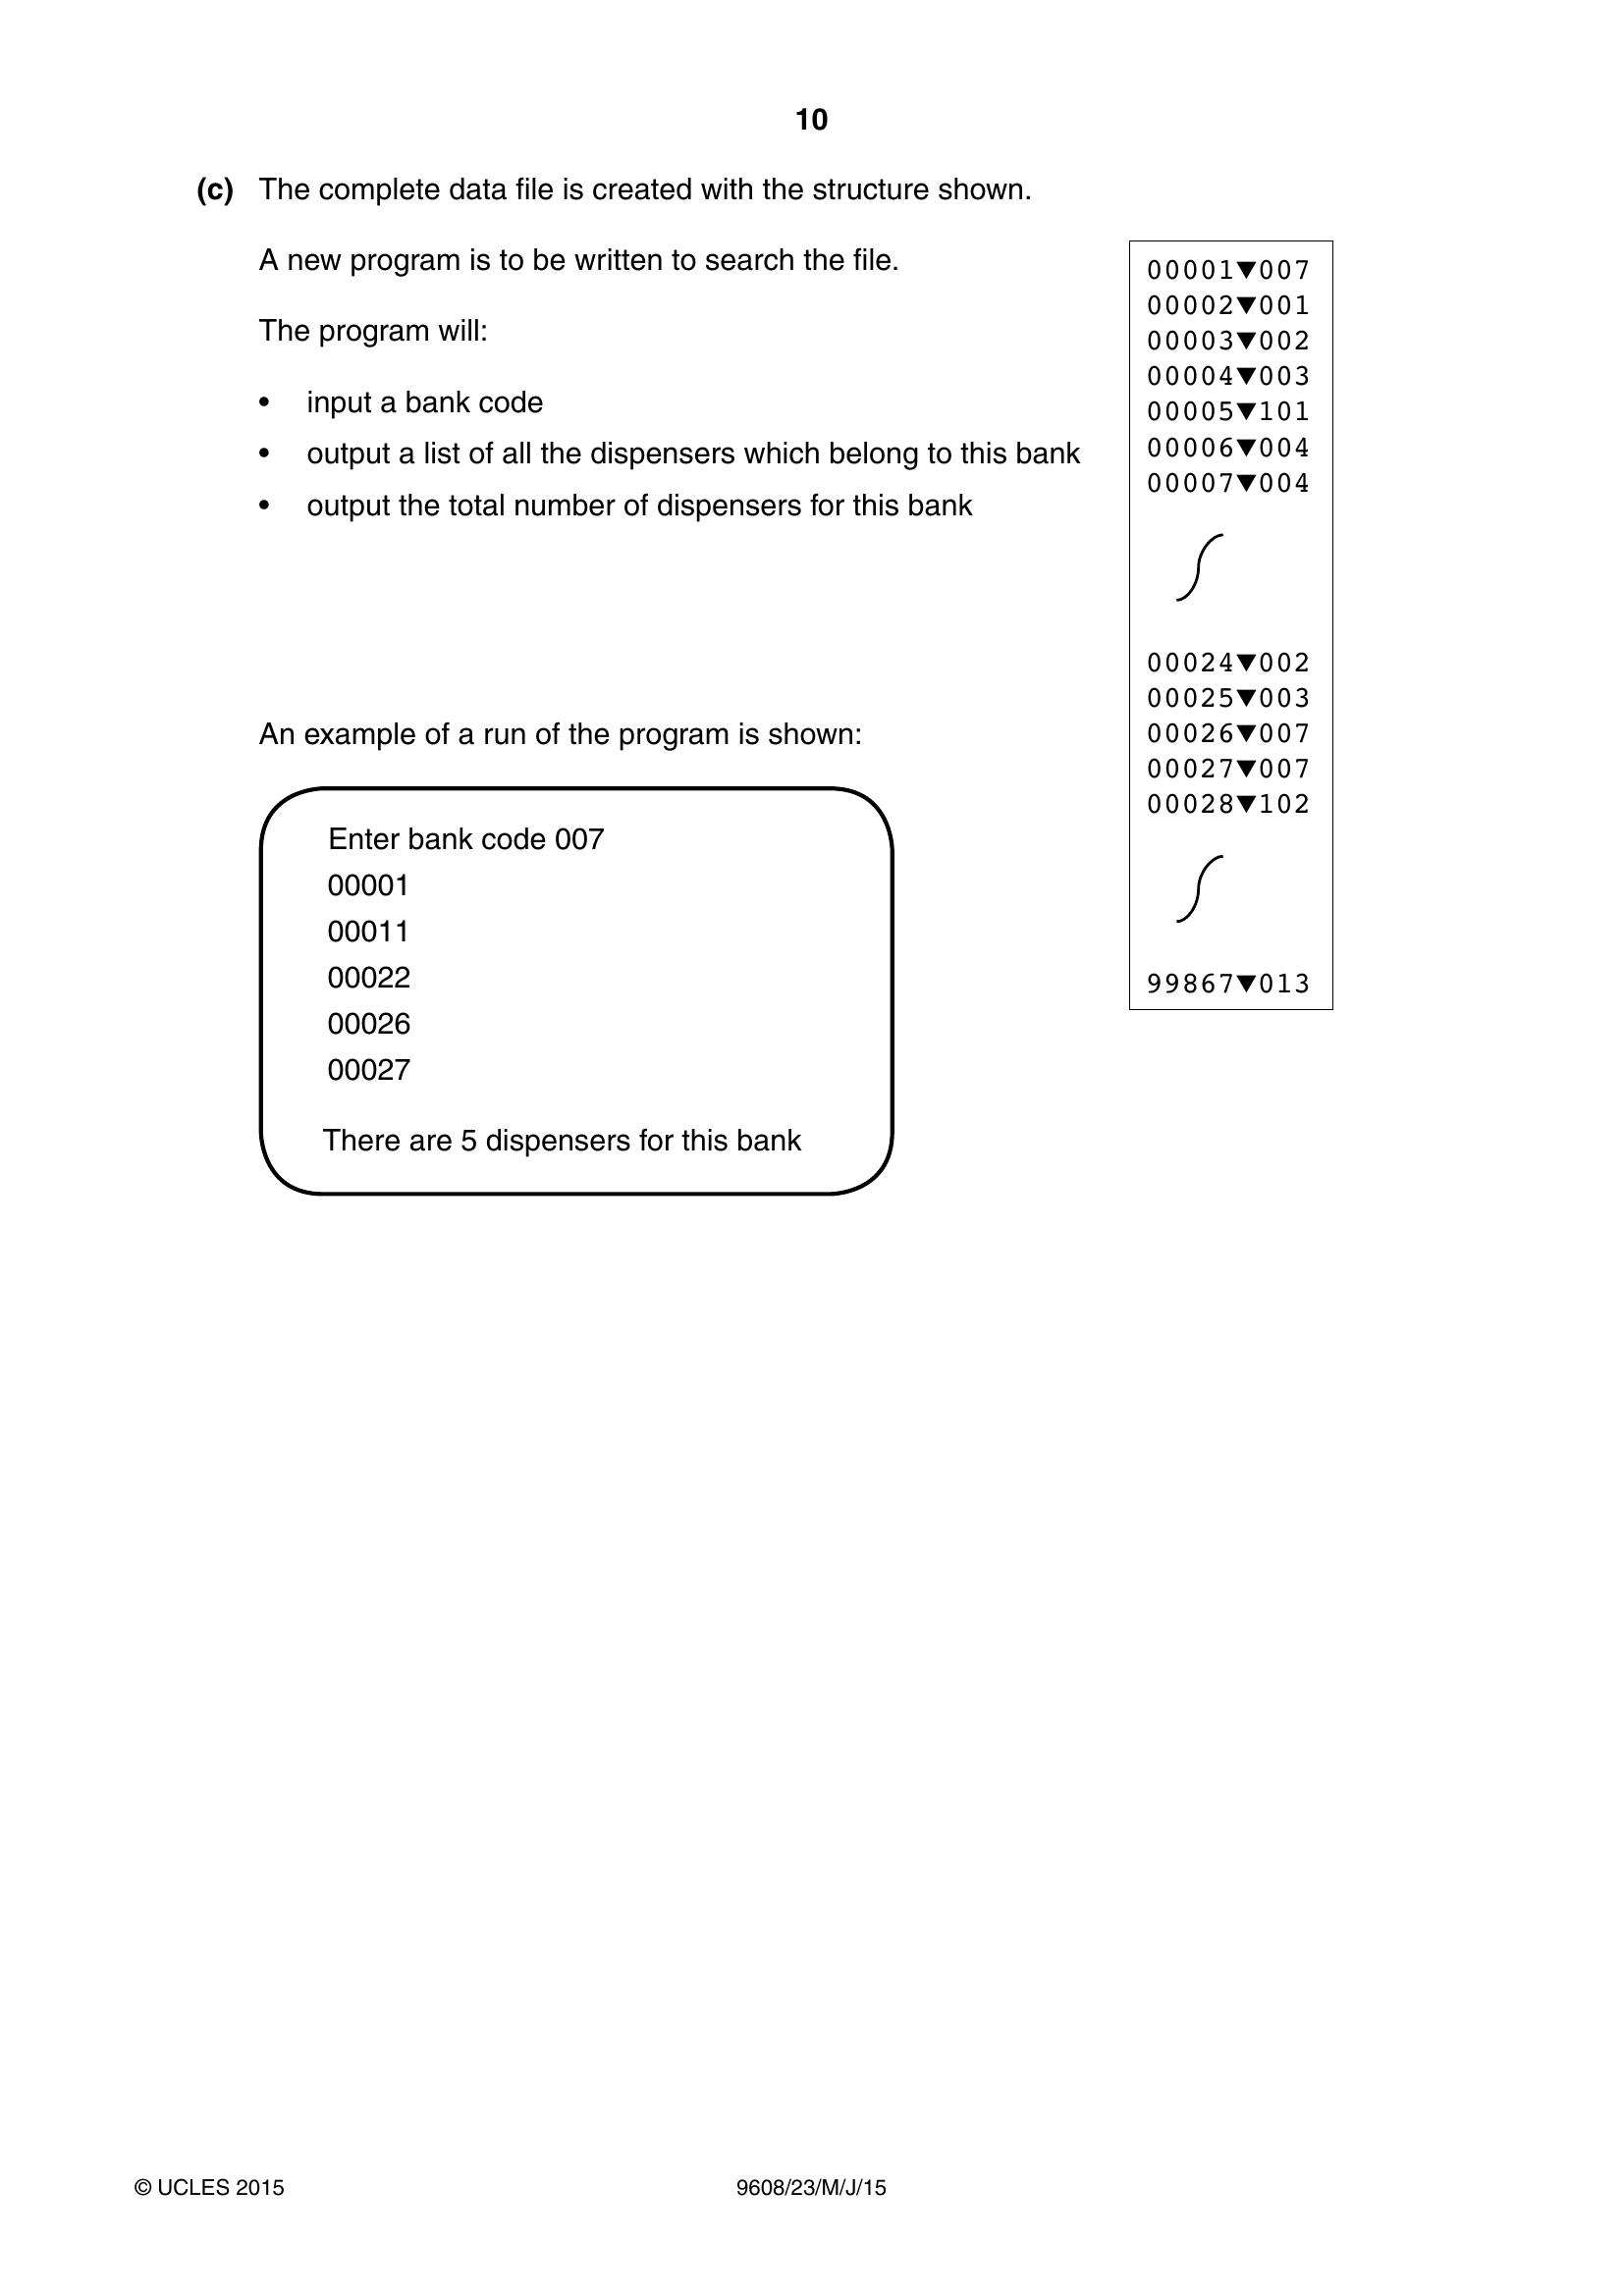continued question: (5, 51, 1624, 1251)
